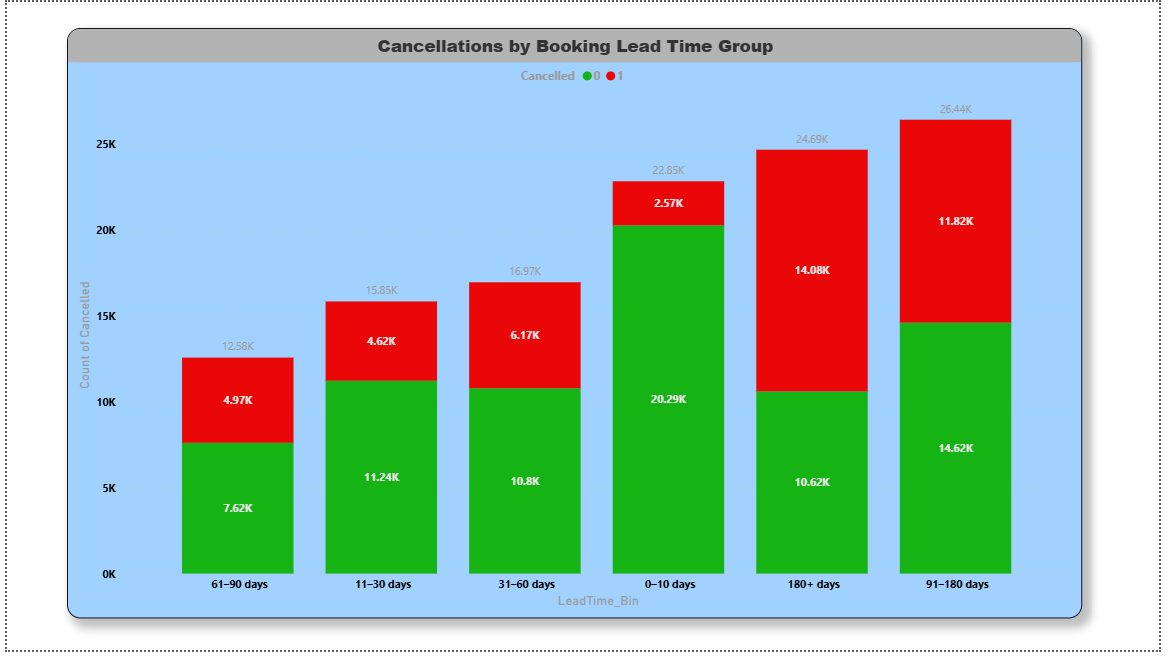

The dashboard page shown, as its layout file describes it:
{"tool":"powerbi","page":{"name":"Lead Time Impact","canvas":[1280,720],"ordinal":0},"visuals":[{"type":"columnChart","title":"Cancellations by Booking Lead Time Group","fields":{"Category":["hotel_bookings.LeadTime_Bin"],"Y":["CountNonNull(hotel_bookings.Cancelled)"],"Series":["hotel_bookings.Cancelled"]},"box":[66.7,28.9,1127.8,655.6],"z":0}]}

Visuals, with their boxes in screenshot pixels (x1, y1, x2, y2), scaled from the page's 1280x720 canvas onto the 1170x664 screenshot:
"Cancellations by Booking Lead Time Group" columnChart: pyautogui.locateOnScreen(61, 27, 1092, 631)
